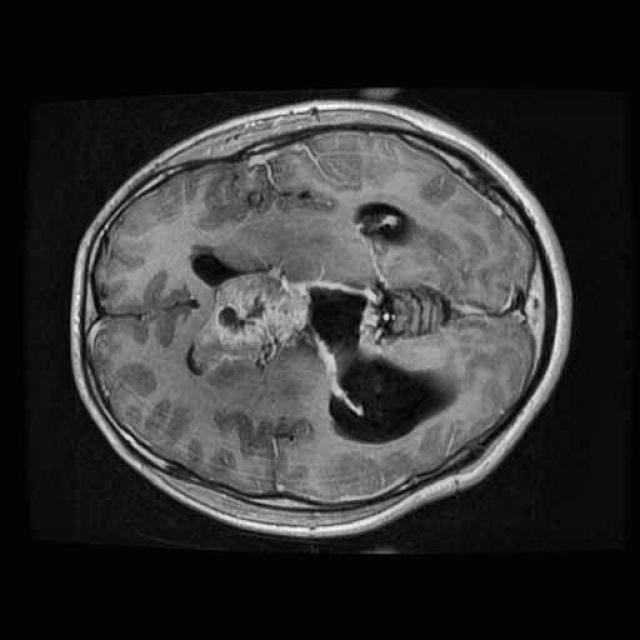Non-Tumor: (183, 260, 326, 395)
